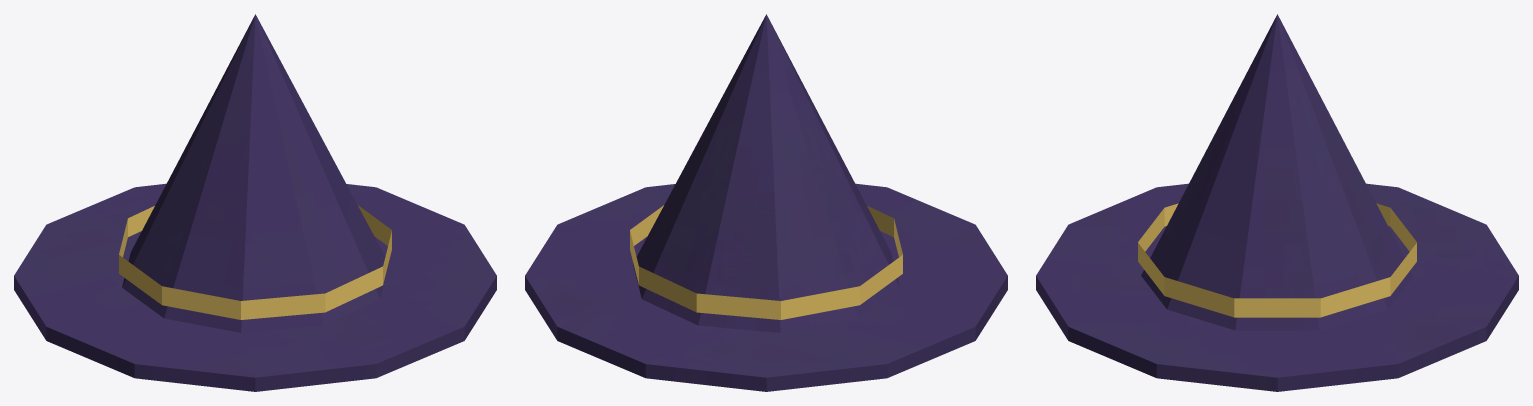
Rendered from acc_hat_pointed.glb.
The picture shows the model from 3 angles, left to right: view 1: azimuth 30°, elevation 25°; view 2: azimuth 150°, elevation 25°; view 3: azimuth 270°, elevation 25°; orthographic projection.
Parts seen in each view (by area): view 1: acc_hat_pointed; view 2: acc_hat_pointed; view 3: acc_hat_pointed.
Part boxes in pixels (box(x1,y1,x2,y2)): acc_hat_pointed: box(14, 14, 496, 391); acc_hat_pointed: box(525, 14, 1007, 391); acc_hat_pointed: box(1036, 14, 1518, 391).
Size of the model in its own units: 0.46 by 0.29 by 0.46.
2 materials, 1 textured.
